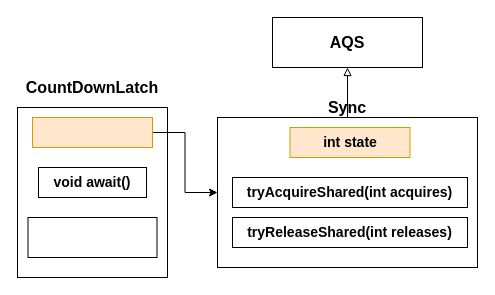
This 495x295 diagram has some shape labels left out. The shapes that lost their labels are listed below. From the top down, each one's box as (x1, y1, x2, y2) in pixels, then its label:
(32, 116, 152, 148): Sync sync
(27, 216, 157, 258): void countDown()
